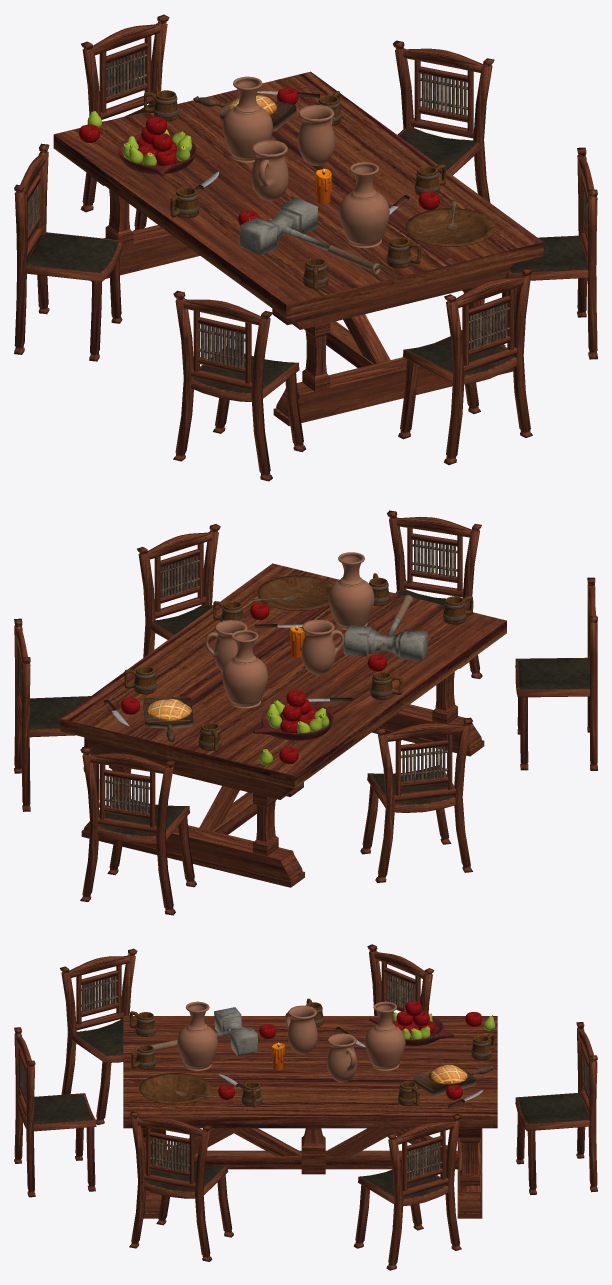
3 renders of one model, top to bottom at view 1: azimuth 30°, elevation 25°; view 2: azimuth 150°, elevation 25°; view 3: azimuth 270°, elevation 25°, orthographic. The views are drawn at different scales.
Visible parts, largest first — view 1: medieval Table_4, medieval chair.004_22, medieval chair.005_23, medieval chair.003_21, medieval chair.001_19, medieval chair.002_20, medieval chair_2, medieval sledgehammer_10, wine jug.001_29, wine jug_28, medieval dish_30, medieval water jar.001_27 (+8 smaller); view 2: medieval Table_4, medieval chair.002_20, medieval chair.003_21, medieval chair_2, medieval chair.005_23, medieval chair.004_22, medieval chair.001_19, medieval sledgehammer_10, wine jug_28, wine jug.001_29, medieval dish_30, medieval water jar_8 (+9 smaller); view 3: medieval Table_4, medieval chair_2, medieval chair.001_19, medieval chair.004_22, medieval chair.002_20, medieval chair.005_23, medieval chair.003_21, wine jug_28, wine jug.001_29, medieval dish_30, medieval sledgehammer_10, medieval water jar_8 (+9 smaller).
Part boxes in pixels (x1=…): medieval Table_4: x1=53, y1=71, x2=543, y2=425; medieval chair.004_22: x1=173, y1=290, x2=305, y2=481; medieval chair.005_23: x1=398, y1=267, x2=532, y2=464; medieval chair.003_21: x1=14, y1=143, x2=122, y2=361; medieval chair.001_19: x1=393, y1=40, x2=494, y2=202; medieval chair.002_20: x1=80, y1=14, x2=169, y2=230; medieval chair_2: x1=502, y1=147, x2=597, y2=359; medieval sledgehammer_10: x1=239, y1=197, x2=381, y2=274; wine jug.001_29: x1=339, y1=162, x2=389, y2=247; wine jug_28: x1=222, y1=76, x2=272, y2=162; medieval dish_30: x1=405, y1=208, x2=495, y2=247; medieval water jar.001_27: x1=297, y1=105, x2=335, y2=165; medieval Table_4: x1=60, y1=563, x2=506, y2=887; medieval chair.002_20: x1=80, y1=747, x2=196, y2=915; medieval chair.003_21: x1=360, y1=717, x2=472, y2=882; medieval chair_2: x1=137, y1=524, x2=220, y2=657; medieval chair.005_23: x1=387, y1=510, x2=482, y2=702; medieval chair.004_22: x1=515, y1=577, x2=597, y2=770; medieval chair.001_19: x1=14, y1=618, x2=99, y2=811; medieval sledgehammer_10: x1=343, y1=595, x2=427, y2=660; wine jug_28: x1=222, y1=630, x2=267, y2=708; wine jug.001_29: x1=328, y1=552, x2=374, y2=630; medieval dish_30: x1=257, y1=575, x2=333, y2=611; medieval water jar_8: x1=301, y1=619, x2=344, y2=675; medieval Table_4: x1=123, y1=1016, x2=497, y2=1218; medieval chair_2: x1=129, y1=1111, x2=233, y2=1261; medieval chair.001_19: x1=353, y1=1113, x2=461, y2=1270; medieval chair.004_22: x1=60, y1=948, x2=137, y2=1124; medieval chair.002_20: x1=515, y1=1022, x2=597, y2=1195; medieval chair.005_23: x1=14, y1=1027, x2=96, y2=1197; medieval chair.003_21: x1=367, y1=944, x2=434, y2=1015; wine jug_28: x1=365, y1=1001, x2=405, y2=1070; wine jug.001_29: x1=177, y1=1001, x2=217, y2=1070; medieval dish_30: x1=138, y1=1073, x2=211, y2=1104; medieval sledgehammer_10: x1=135, y1=1007, x2=258, y2=1055; medieval water jar_8: x1=285, y1=1005, x2=317, y2=1054.
Bounding box in the file's own units: 5.15 × 2.06 × 6.58.
Materials: 22 (21 with a texture image).
